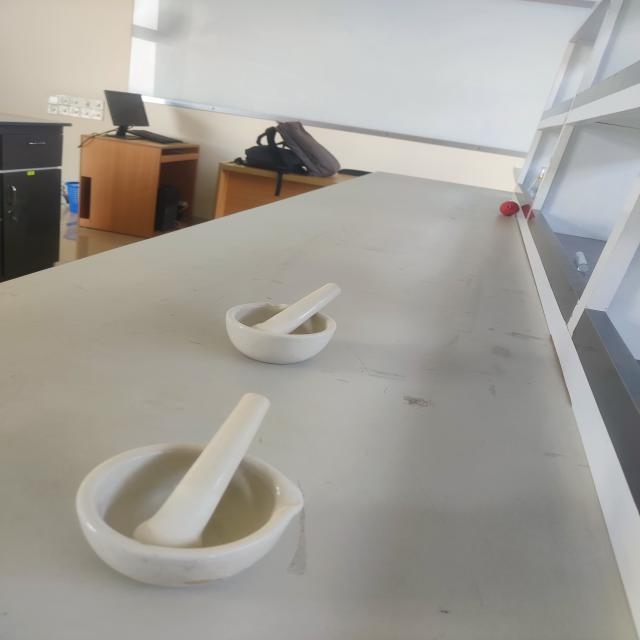Porcelain_Mortar Pestle: (52, 381, 326, 608), (218, 267, 357, 380)
